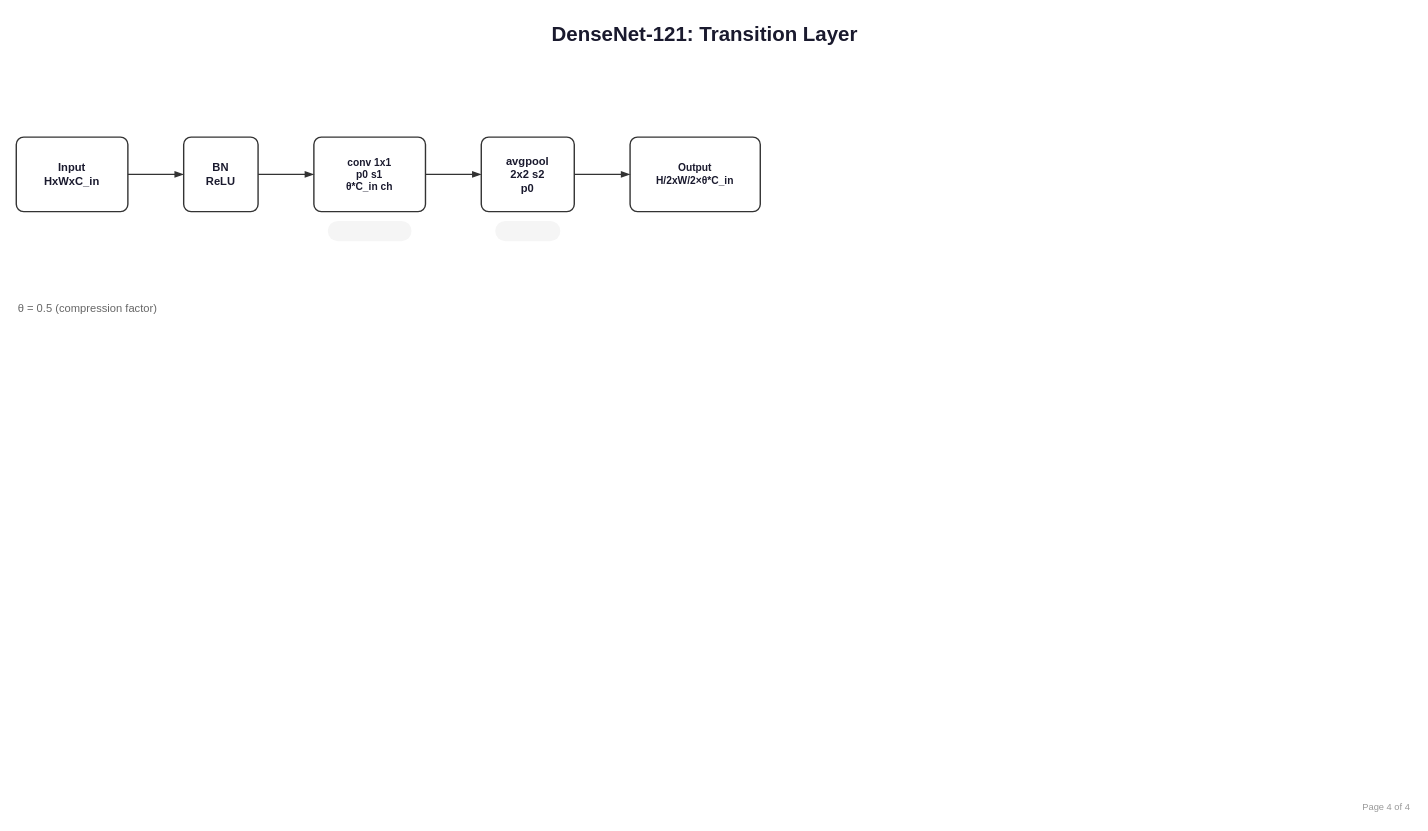
The diagram is 1428 pixels wide and 831 high, and some of its shapes have lost their labels. Each missing label, with the centre of its shape:
"H/2xW/2×θ*C_in" goes at point (527, 230).
"HxW×θ*C_in" goes at point (369, 230).
